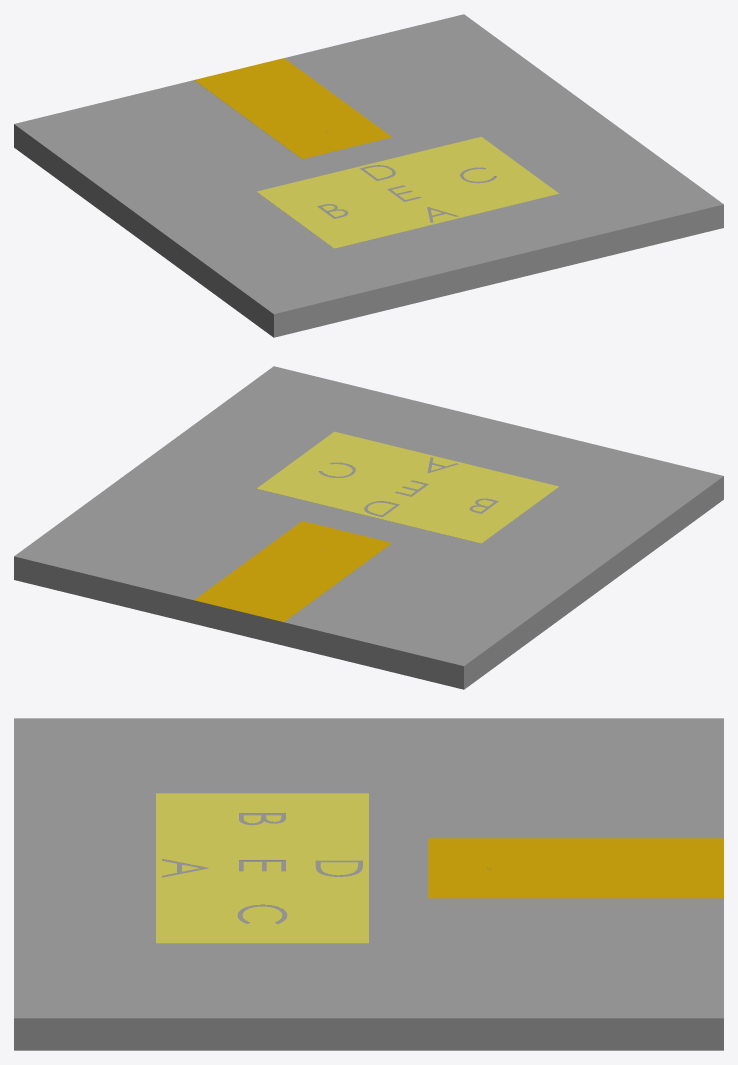
Rendered from table.dae.
The picture shows the model from 3 angles, top to bottom: view 1: azimuth 30°, elevation 25°; view 2: azimuth 150°, elevation 25°; view 3: azimuth 270°, elevation 25°; orthographic projection. The views are drawn at different scales.
Parts seen in each view (by area): view 1: scene; view 2: scene; view 3: scene.
Part boxes in pixels (x1,y1,x2,y2): scene: (14,14,723,337); scene: (14,366,723,689); scene: (14,718,723,1050).
Bounding box in the file's own units: 0.6 × 0.6 × 0.0301.
